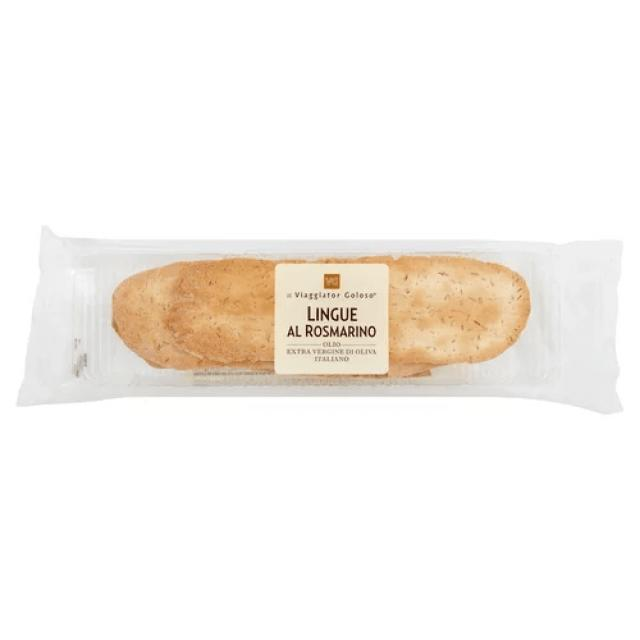Bread loaf: (23, 229, 621, 416)
